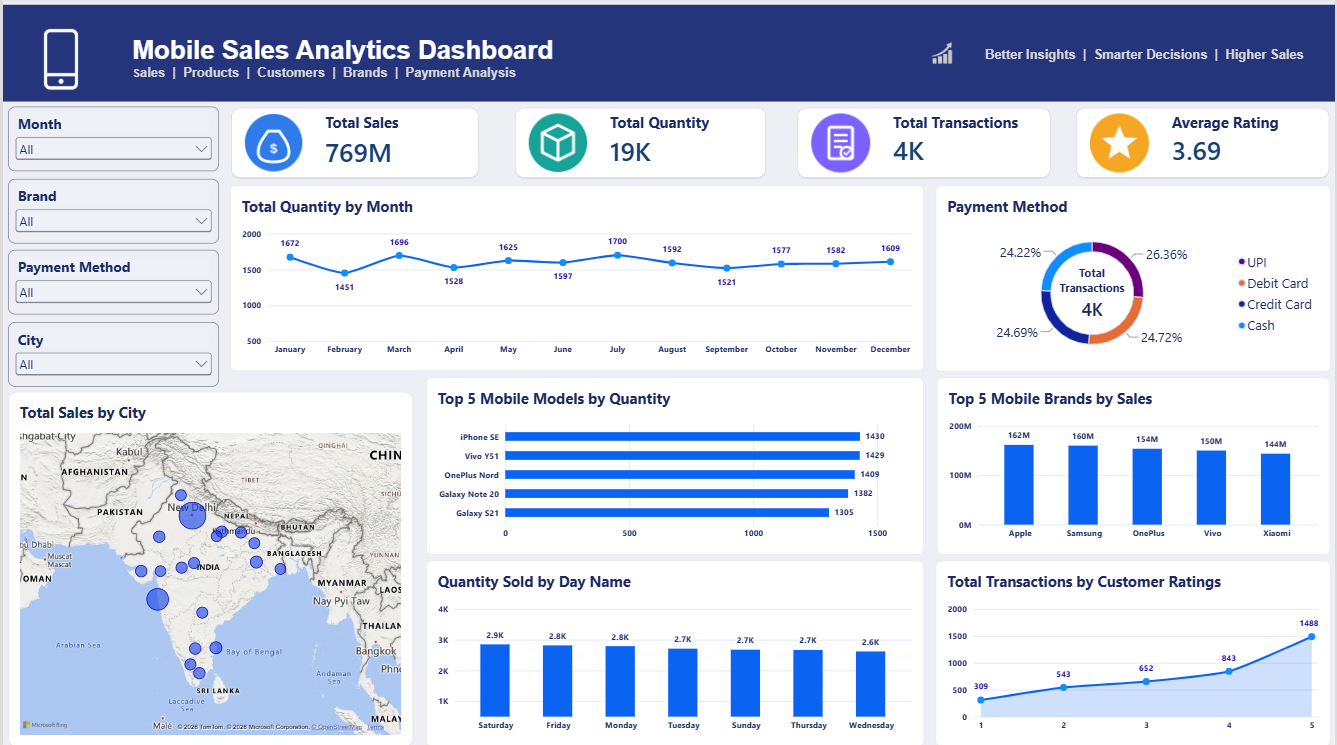

Layout of this report page (visuals, bound fields, positions):
{"tool":"powerbi","page":{"name":"Portfolio Dashboard","canvas":[1920,1080],"ordinal":0},"visuals":[{"type":"textbox","box":[0,11.2,1920.5,139.4],"z":0,"group":"g1"},{"type":"image","box":[20.5,39.1,126.7,101.4],"z":1000,"group":"g1"},{"type":"image","box":[1296,57,115,46.9],"z":1000,"group":"g1"},{"type":"cardVisual","fields":{"Data":["Mobile_Sales_Dataset.Total_Sales"]},"box":[327.2,158,360.7,104.1],"z":1000},{"type":"cardVisual","fields":{"Data":["Mobile_Sales_Dataset.Average Rating"]},"box":[1545,158,368,104],"z":2000},{"type":"cardVisual","fields":{"Data":["Mobile_Sales_Dataset.Total Quantity"]},"box":[736,158,365,104],"z":3000},{"type":"cardVisual","fields":{"Data":["Mobile_Sales_Dataset.Total Transactions"]},"box":[1143,158,368,104],"z":4000},{"type":"slicer","fields":{"Values":["Mobile_Sales_Dataset.Date.Variation.Date Hierarchy.Month"]},"box":[8,158,304,93],"z":5000},{"type":"slicer","fields":{"Values":["Mobile_Sales_Dataset.Brand"]},"box":[8,262,304,93],"z":6000},{"type":"slicer","fields":{"Values":["Mobile_Sales_Dataset.Payment Method"]},"box":[8,365,304,93],"z":6001},{"type":"slicer","fields":{"Values":["Mobile_Sales_Dataset.City"]},"box":[8,468,304,93],"z":6002},{"type":"map","fields":{"Category":["Mobile_Sales_Dataset.City"],"Size":["Mobile_Sales_Dataset.Total Sales"]},"box":[8,568,584,512],"z":6003},{"type":"lineChart","fields":{"Category":["Mobile_Sales_Dataset.Date.Variation.Date Hierarchy.Month"],"Y":["Mobile_Sales_Dataset.Total Quantity"]},"box":[327.2,271.4,1000.2,267.7],"z":6004},{"type":"donutChart","title":"Payment Method","fields":{"Category":["Mobile_Sales_Dataset.Payment Method"],"Y":["Mobile_Sales_Dataset.Total Transactions"]},"box":[1344,271,569,268],"z":6005},{"type":"barChart","title":"Top 5 Mobile Models by Quantity","fields":{"Category":["Mobile_Sales_Dataset.Mobile Model"],"Y":["Mobile_Sales_Dataset.Total Quantity"]},"box":[610,549,717,255],"z":6006},{"type":"clusteredColumnChart","title":"Top 5 Mobile Brands by Sales","fields":{"Y":["Mobile_Sales_Dataset.Total Sales"],"Category":["Mobile_Sales_Dataset.Brand"]},"box":[1346,548,567,255],"z":6007},{"type":"lineChart","fields":{"Category":["Mobile_Sales_Dataset.Customer Ratings"],"Y":["Mobile_Sales_Dataset.Total Transactions"]},"box":[1344.1,812.4,568.9,267.7],"z":6008},{"type":"clusteredColumnChart","title":"Quantity Sold by Day Name","fields":{"Category":["Mobile_Sales_Dataset.Day Name"],"Y":["Mobile_Sales_Dataset.Total Quantity"]},"box":[609.8,812.4,717.6,267.7],"z":6009},{"type":"group","id":"g1","title":"Group 1","box":[0,11.2,1920.5,139.4],"z":6010}]}

Visuals, with their boxes in screenshot pixels (x1, y1, x2, y2), scaled from the page's 1920x1080 canvas onto the 1337x745 screenshot:
textbox: left=0, top=8, right=1336, bottom=104
image: left=14, top=27, right=103, bottom=97
image: left=902, top=39, right=983, bottom=72
cardVisual - Mobile_Sales_Dataset.Total_Sales: left=228, top=109, right=479, bottom=181
cardVisual - Mobile_Sales_Dataset.Average Rating: left=1076, top=109, right=1332, bottom=181
cardVisual - Mobile_Sales_Dataset.Total Quantity: left=513, top=109, right=767, bottom=181
cardVisual - Mobile_Sales_Dataset.Total Transactions: left=796, top=109, right=1052, bottom=181
slicer - Mobile_Sales_Dataset.Date.Variation.Date Hierarchy.Month: left=6, top=109, right=217, bottom=173
slicer - Mobile_Sales_Dataset.Brand: left=6, top=181, right=217, bottom=245
slicer - Mobile_Sales_Dataset.Payment Method: left=6, top=252, right=217, bottom=316
slicer - Mobile_Sales_Dataset.City: left=6, top=323, right=217, bottom=387
map - Mobile_Sales_Dataset.City x Mobile_Sales_Dataset.Total Sales: left=6, top=392, right=412, bottom=744
lineChart - Mobile_Sales_Dataset.Date.Variation.Date Hierarchy.Month x Mobile_Sales_Dataset.Total Quantity: left=228, top=187, right=924, bottom=372
"Payment Method" donutChart: left=936, top=187, right=1332, bottom=372
"Top 5 Mobile Models by Quantity" barChart: left=425, top=379, right=924, bottom=555
"Top 5 Mobile Brands by Sales" clusteredColumnChart: left=937, top=378, right=1332, bottom=554
lineChart - Mobile_Sales_Dataset.Customer Ratings x Mobile_Sales_Dataset.Total Transactions: left=936, top=560, right=1332, bottom=744
"Quantity Sold by Day Name" clusteredColumnChart: left=425, top=560, right=924, bottom=744
"Group 1" group: left=0, top=8, right=1336, bottom=104
